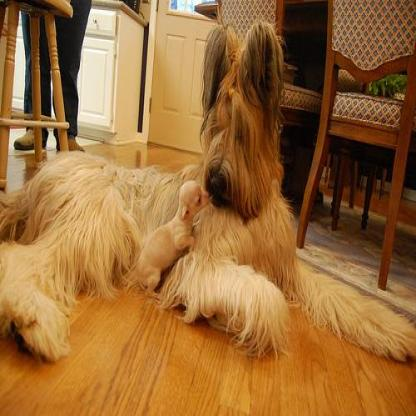briard: (0, 20, 414, 375)
